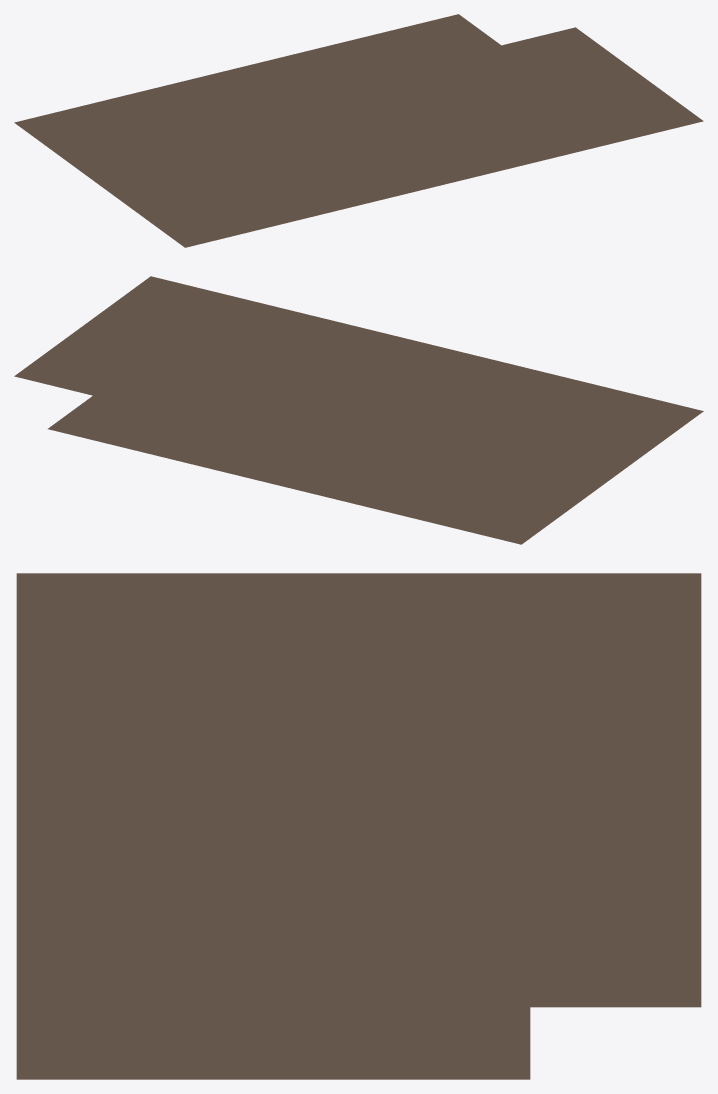
The model's file is N01_Piso_Cuarto_001.fbx.
3 views of the same model, one above another, from view 1: azimuth 30°, elevation 25°; view 2: azimuth 150°, elevation 25°; view 3: azimuth 270°, elevation 25° (orthographic). The views are drawn at different scales.
Parts seen in each view (by area): view 1: N01_Piso_Cuarto_001; view 2: N01_Piso_Cuarto_001; view 3: N01_Piso_Cuarto_001.
Part boxes in pixels (left/top/right/bottom): N01_Piso_Cuarto_001: left=14, top=14, right=703, bottom=247; N01_Piso_Cuarto_001: left=14, top=276, right=703, bottom=544; N01_Piso_Cuarto_001: left=16, top=573, right=701, bottom=1079.
Bounding box in the file's own units: 700 × 6.52e-05 × 400.
1 material, 1 textured.
